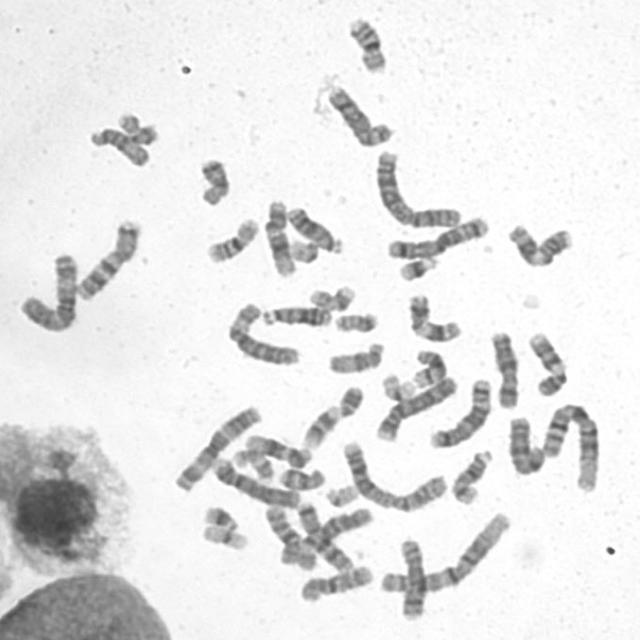A1: (376, 508, 514, 596), (538, 398, 602, 494)
A2: (337, 436, 451, 514), (372, 146, 464, 230)
A3: (168, 401, 265, 493), (15, 248, 80, 334)
B4: (370, 371, 460, 443), (207, 454, 303, 511)
B5: (424, 374, 494, 449), (383, 212, 491, 260)
C10: (295, 560, 375, 604), (260, 501, 302, 565)
C11: (504, 219, 575, 270), (403, 290, 464, 344)
C12: (260, 195, 298, 278), (241, 430, 313, 470)
C6: (291, 505, 375, 573), (222, 298, 303, 367)
C7: (70, 214, 144, 302), (292, 497, 356, 575)
C8: (322, 80, 395, 148), (394, 534, 429, 622)
C9: (297, 382, 366, 451), (524, 328, 570, 398)
D13: (282, 201, 345, 255), (257, 301, 335, 329)
D14: (448, 445, 496, 506), (408, 345, 448, 389)
D15: (85, 122, 152, 169), (323, 337, 387, 376)
E16: (201, 213, 261, 265), (343, 12, 390, 75)
E17: (229, 448, 275, 484), (304, 282, 356, 312)
E18: (194, 153, 232, 208), (275, 464, 327, 492)
F19: (197, 520, 250, 553), (377, 369, 418, 403)
F20: (112, 107, 162, 146), (330, 308, 380, 335)
G21: (393, 252, 441, 284), (199, 502, 240, 532)
G22: (321, 481, 361, 508), (286, 236, 322, 265)
X: (485, 326, 522, 411), (504, 411, 547, 477)
